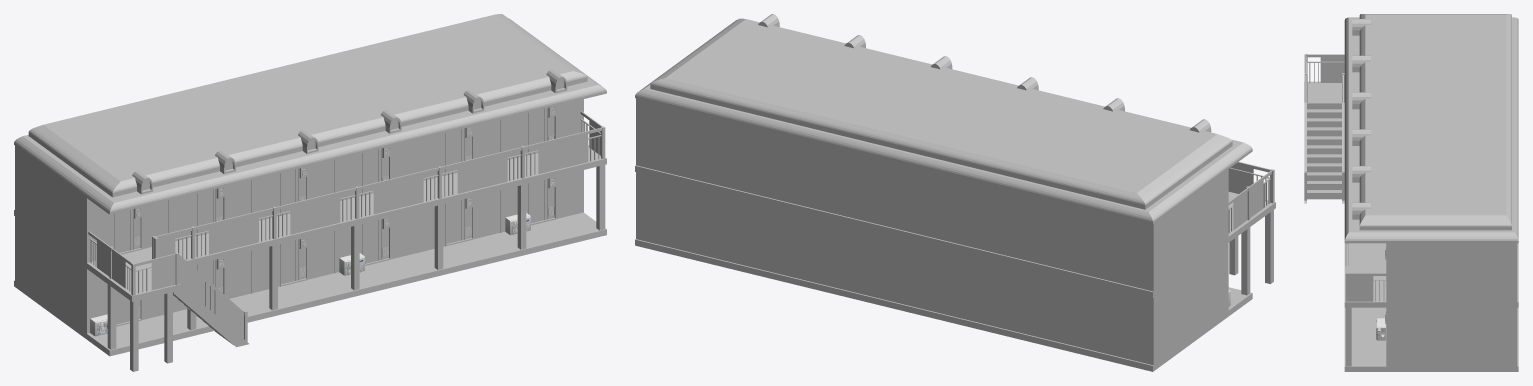
Rendered from Apartment2.fbx.
3 renders of one model, left to right at view 1: azimuth 30°, elevation 25°; view 2: azimuth 150°, elevation 25°; view 3: azimuth 270°, elevation 25°, orthographic. The views are drawn at different scales.
Parts seen in each view (by area): view 1: Apartment2, AirC2; view 2: Apartment2; view 3: Apartment2, AirC2.
Boxes of the visible parts, box(x1,y1,x2,y2) form: Apartment2: box(14, 14, 606, 371); AirC2: box(90, 213, 530, 336); Apartment2: box(635, 14, 1275, 371); Apartment2: box(1304, 14, 1518, 371); AirC2: box(1375, 318, 1386, 340).
Bounding box in the file's own units: 3600 × 1145 × 1480.
